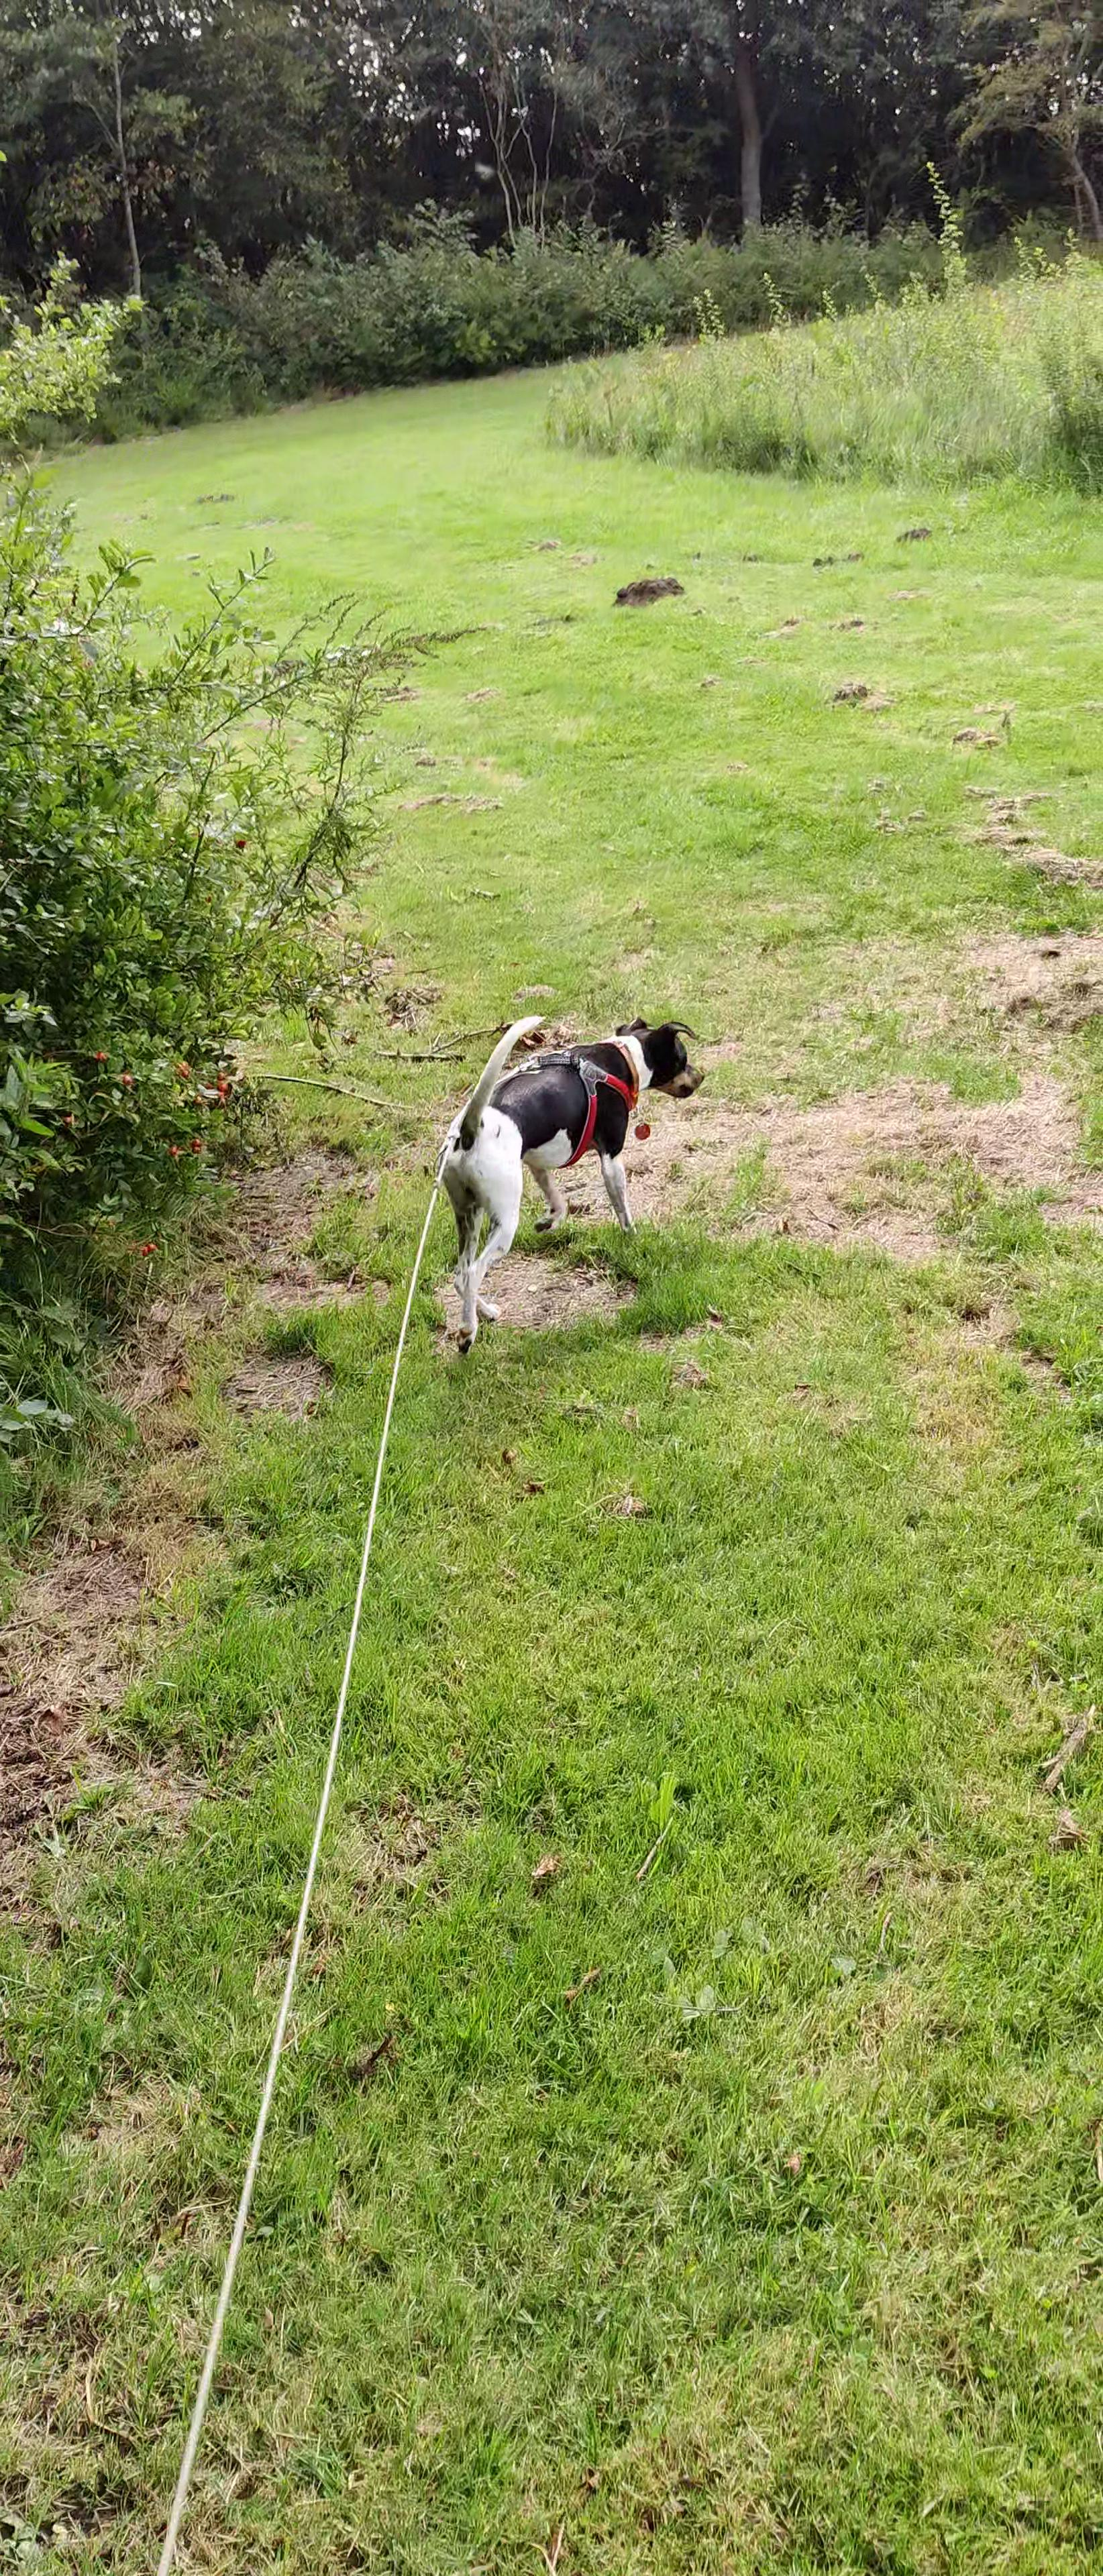Dog: (439, 1007, 712, 1360)
